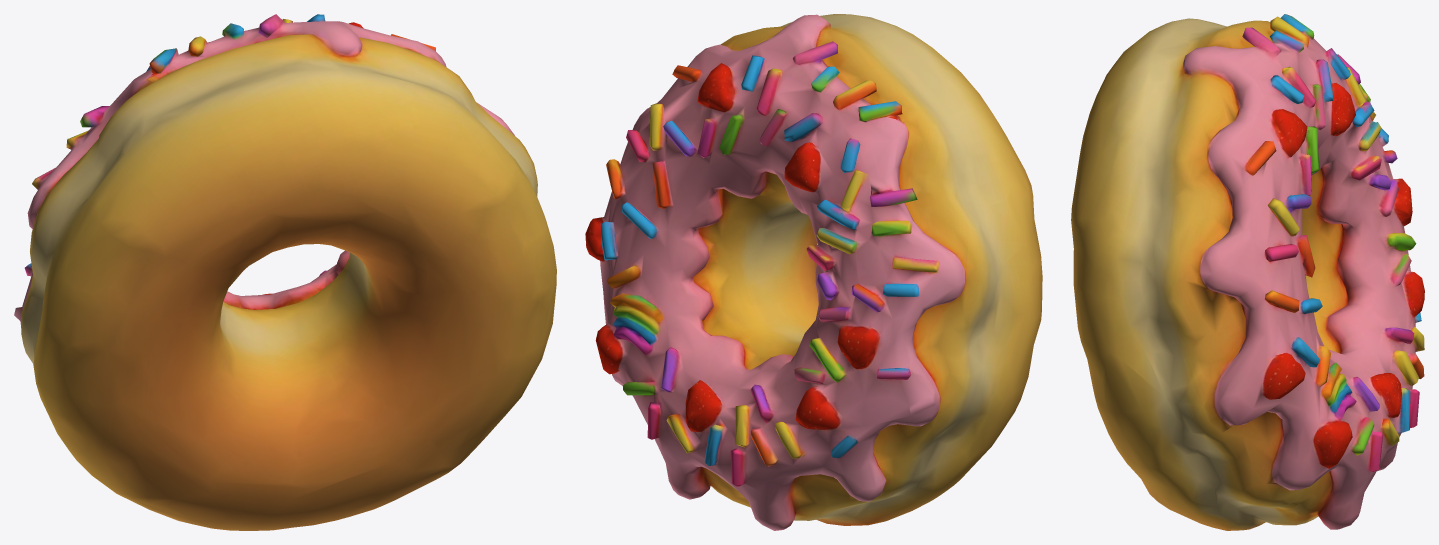
The model's file is deco_donut.glb.
3 renders of one model, left to right at view 1: azimuth 30°, elevation 25°; view 2: azimuth 150°, elevation 25°; view 3: azimuth 270°, elevation 25°, orthographic. The views are drawn at different scales.
Parts seen in each view (by area): view 1: tripo_node_14aa5a57-7d98-4c1e-a290-8bfc2d649b2d; view 2: tripo_node_14aa5a57-7d98-4c1e-a290-8bfc2d649b2d; view 3: tripo_node_14aa5a57-7d98-4c1e-a290-8bfc2d649b2d.
Boxes of the visible parts, x1,y1,x2,y2 form: tripo_node_14aa5a57-7d98-4c1e-a290-8bfc2d649b2d: (14, 14, 556, 530); tripo_node_14aa5a57-7d98-4c1e-a290-8bfc2d649b2d: (585, 14, 1042, 530); tripo_node_14aa5a57-7d98-4c1e-a290-8bfc2d649b2d: (1071, 14, 1424, 530).
Size of the model in its own units: 0.9798 by 1 by 0.6803.
1 material, 1 textured.
